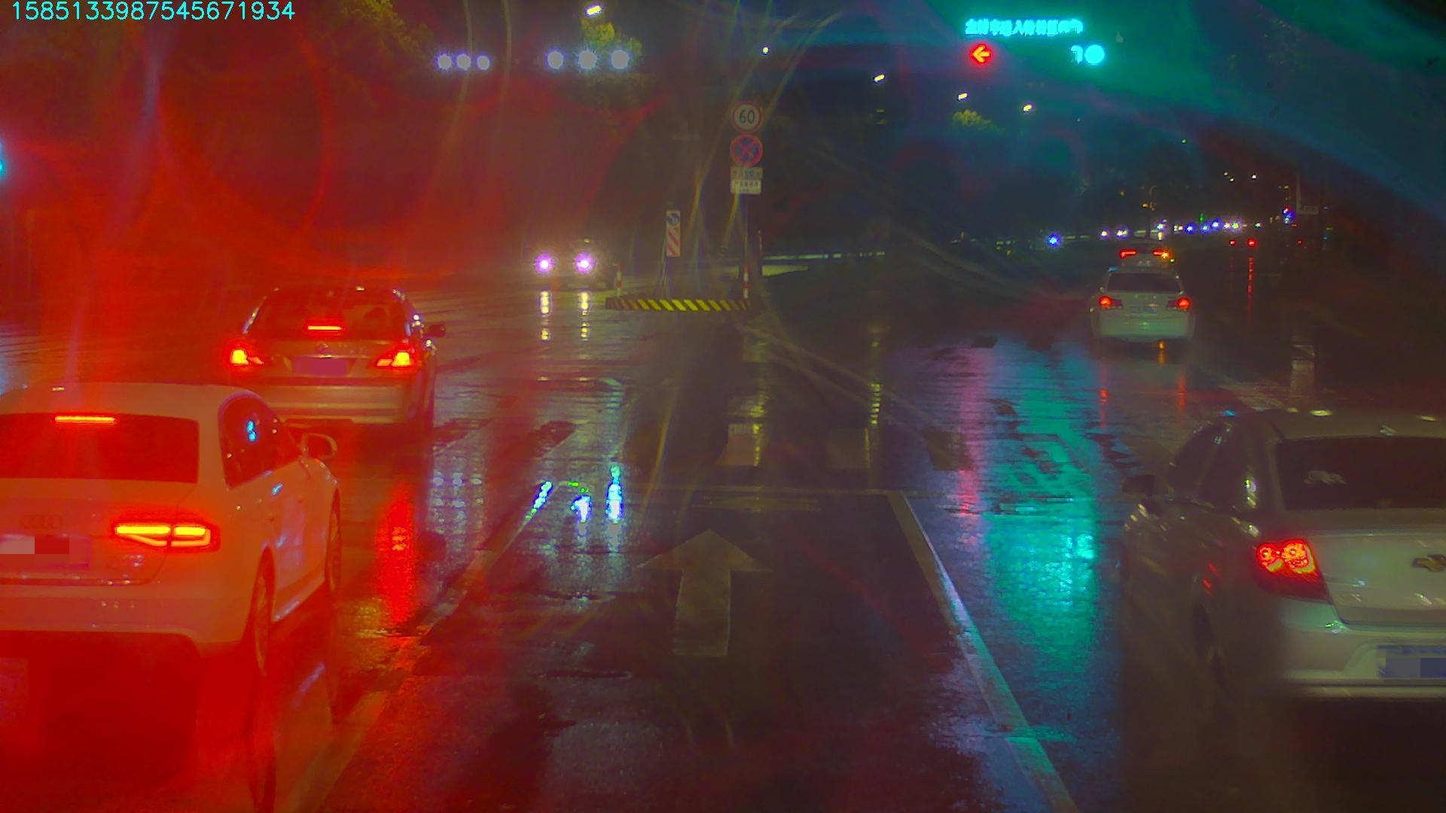green: (1070, 42, 1108, 65)
red: (968, 42, 997, 69)
wait_on: (961, 14, 1088, 38)
